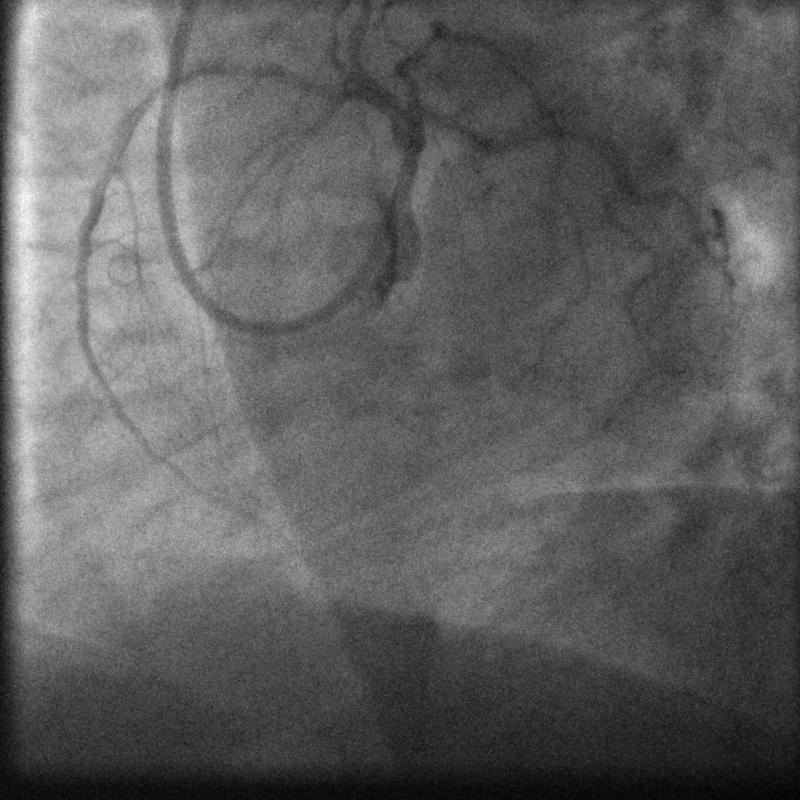Stenosis: (275, 60, 333, 100)
